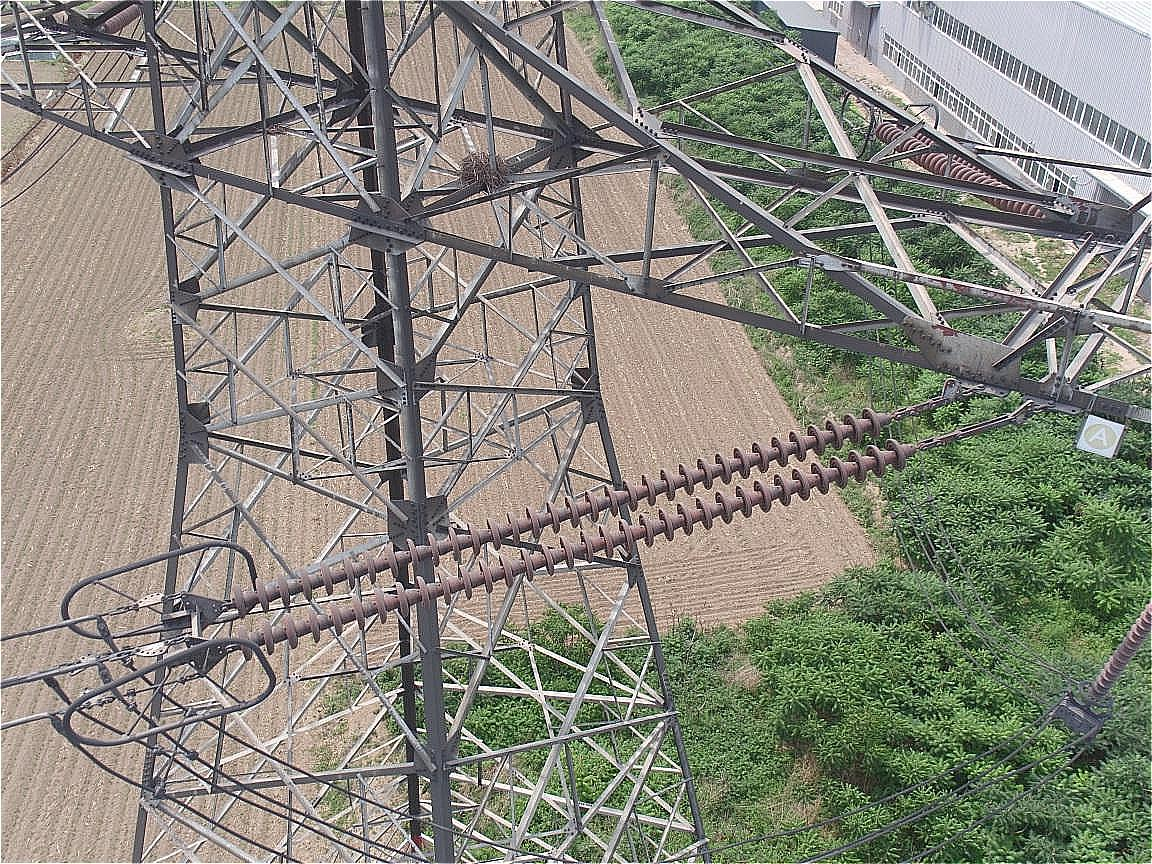insultor1: (233, 406, 909, 663)
